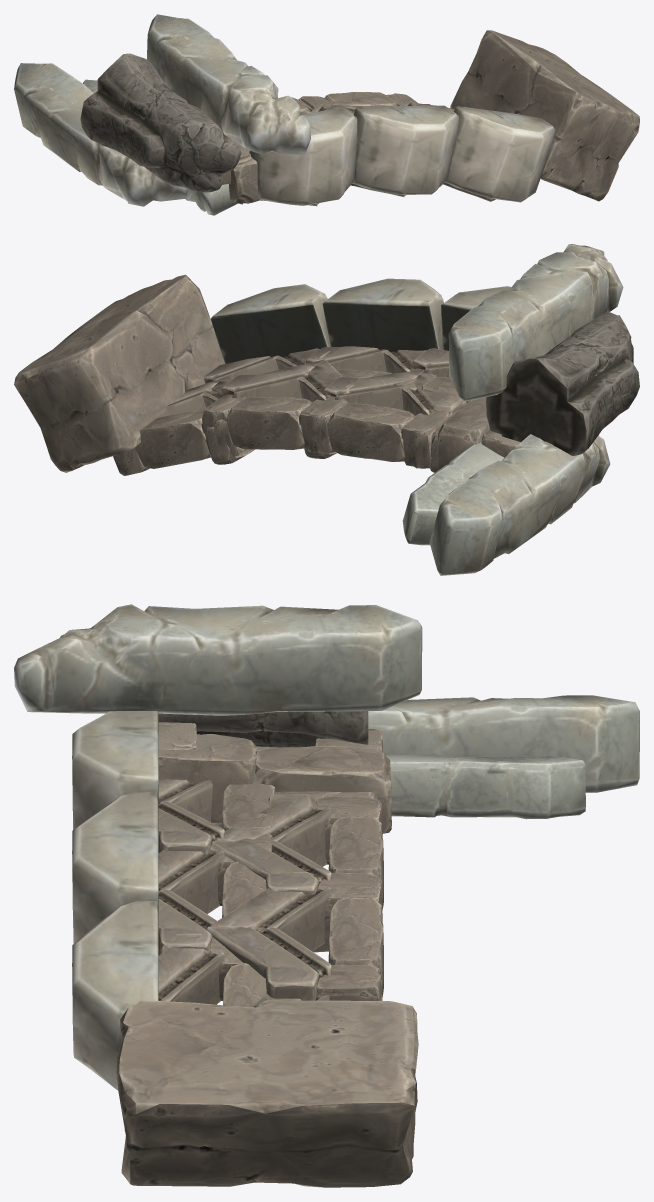
The model's file is Vd_Vulgrim_Merged_A.fbx.
3 renders of one model, top to bottom at view 1: azimuth 30°, elevation 25°; view 2: azimuth 150°, elevation 25°; view 3: azimuth 270°, elevation 25°, orthographic. The views are drawn at different scales.
Visible parts, largest first — view 1: Vd_Vulgrim_Merged_A; view 2: Vd_Vulgrim_Merged_A; view 3: Vd_Vulgrim_Merged_A.
Part boxes in pixels (x1,y1,x2,y2): Vd_Vulgrim_Merged_A: (14, 14, 639, 215); Vd_Vulgrim_Merged_A: (14, 244, 639, 575); Vd_Vulgrim_Merged_A: (14, 604, 639, 1187).
Bounding box in the file's own units: 1018 × 414 × 752.
